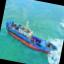fishing boat: (0, 14, 63, 57)
